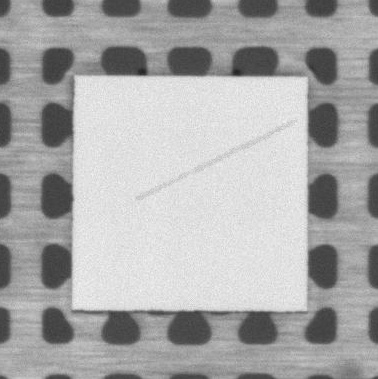DIE_CRACK: (137, 121, 295, 200)
